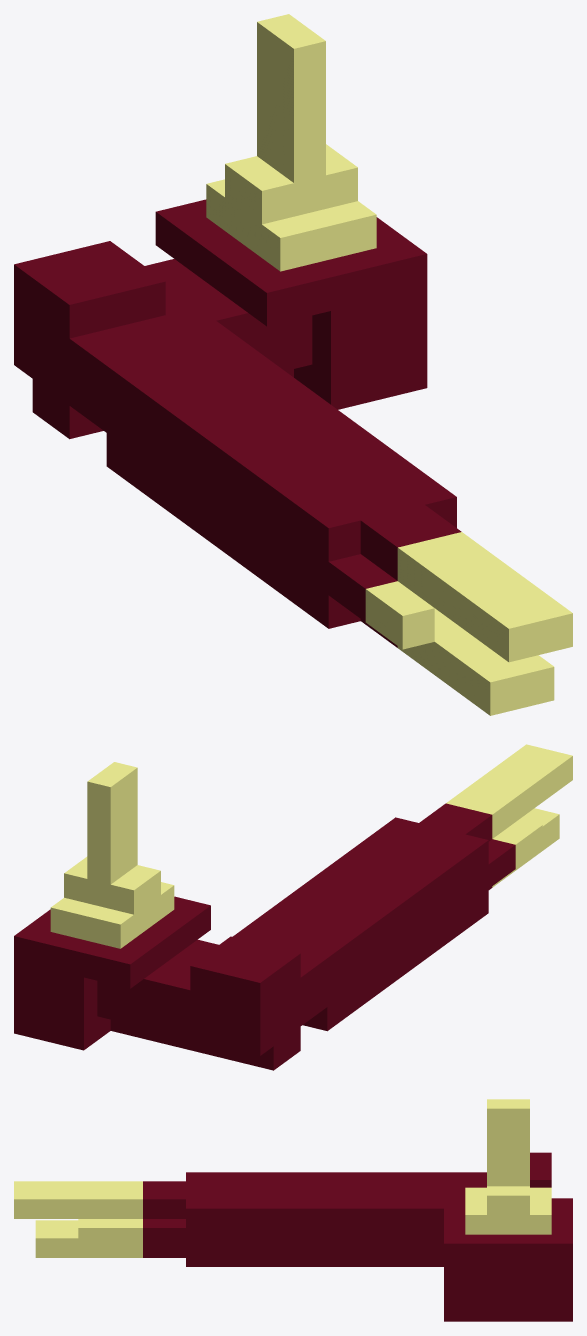
File: Demon_Right_Arm.obj
3 renders of one model, top to bottom at view 1: azimuth 30°, elevation 25°; view 2: azimuth 150°, elevation 25°; view 3: azimuth 270°, elevation 25°, orthographic. The views are drawn at different scales.
Size of the model in its own units: 1 by 1 by 2.6.
1 material, 1 textured.
